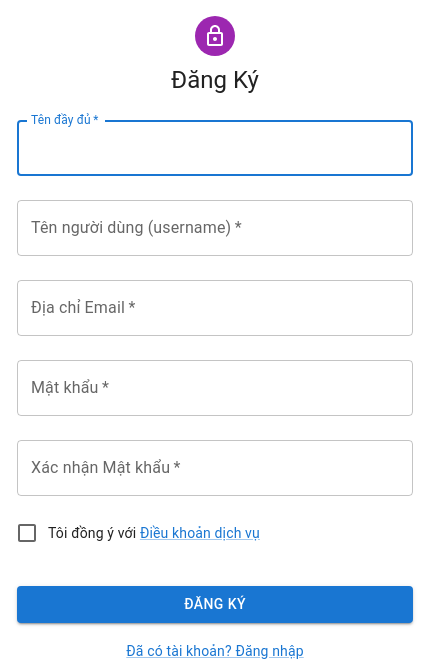
Scenario: RegisterPage Component › shows error Alert if terms are not agreed
The width and height of the screenshot is (431, 664).
Step 1. Type "Test User" into the field labelled "Tên đầy đủ *" → (215, 148), box top-left (17, 120), bottom-right (413, 176)
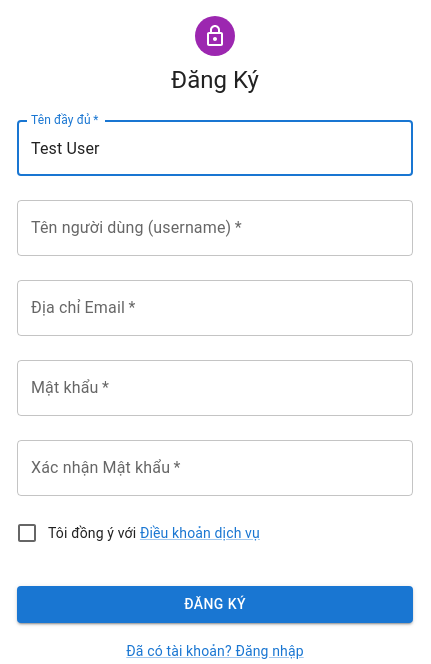
Step 2. Type "testuser" into the field labelled "Tên người dùng (username) *" → (215, 228), box top-left (17, 200), bottom-right (413, 256)
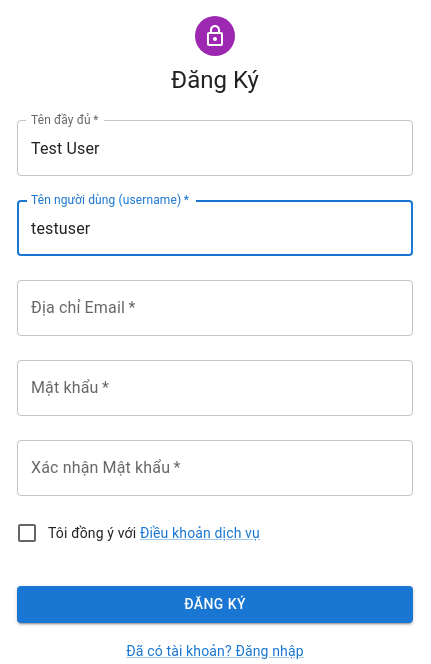
Step 3. Type "test@example.com" into the field labelled "Địa chỉ Email *" → (215, 308), box top-left (17, 280), bottom-right (413, 336)
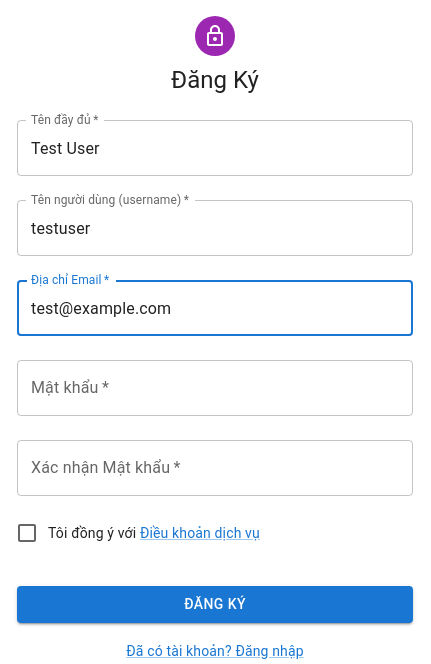
Step 4. Type "password123" into the password field labelled "Mật khẩu *" → (215, 388), box top-left (17, 360), bottom-right (413, 416)
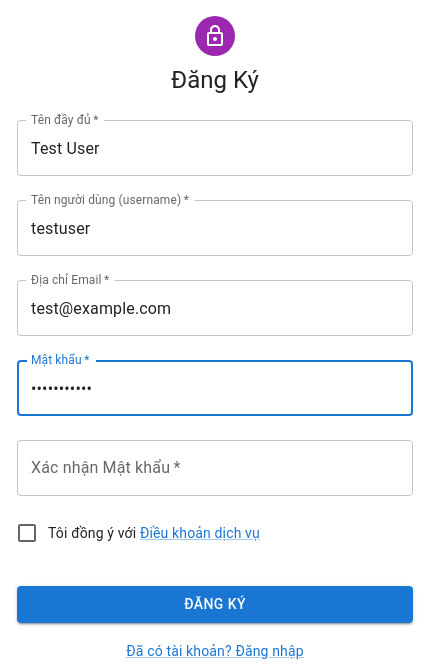
Step 5. Type "password123" into the password field labelled "Xác nhận Mật khẩu *" → (215, 468), box top-left (17, 440), bottom-right (413, 496)
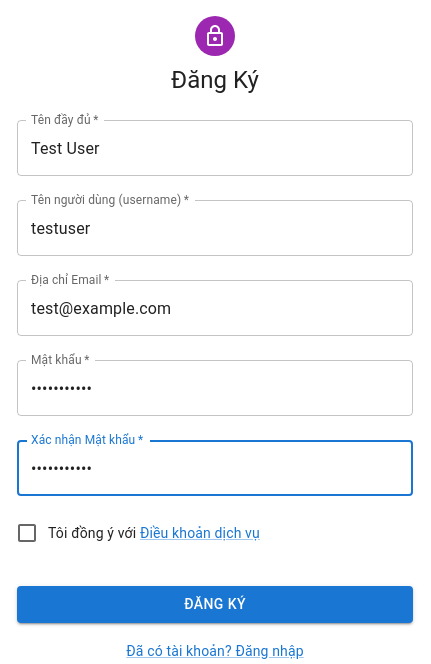
Step 6. Click the button "Đăng Ký" → click(215, 604), box top-left (17, 586), bottom-right (413, 622)
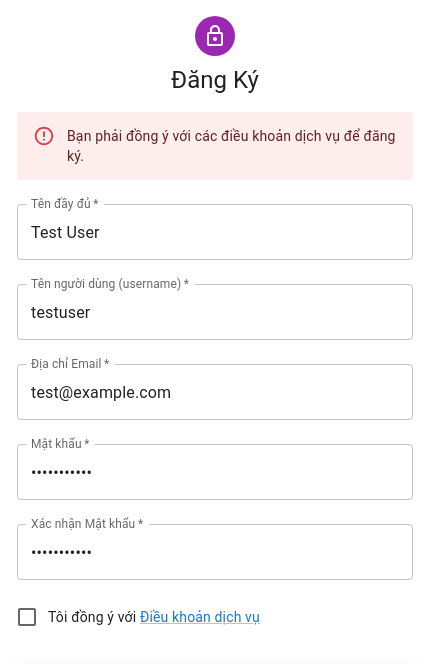
Now the message reads "Bạn phải đồng ý với các điều khoản dịch vụ để đăng ký.", box top-left (67, 128), bottom-right (396, 164)
